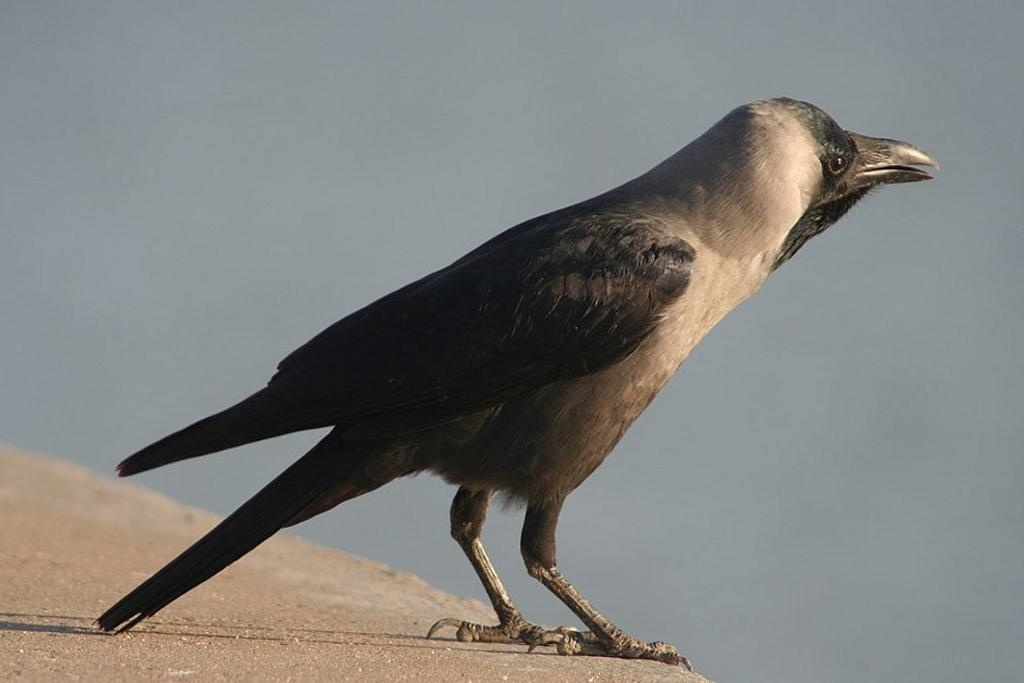crow: (34, 94, 955, 683)
